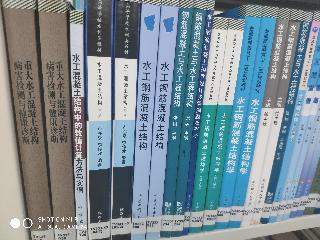book-spine: (210, 4, 263, 229), (3, 0, 52, 240), (249, 12, 303, 225), (227, 7, 277, 226), (261, 14, 312, 224), (240, 9, 289, 226), (270, 12, 320, 224), (200, 20, 245, 231), (273, 34, 320, 223), (40, 2, 75, 240), (172, 0, 207, 236), (190, 19, 228, 234), (145, 0, 178, 240), (160, 0, 193, 237), (108, 1, 138, 239), (184, 1, 214, 235), (129, 1, 158, 240), (87, 0, 111, 239), (70, 13, 87, 239)
